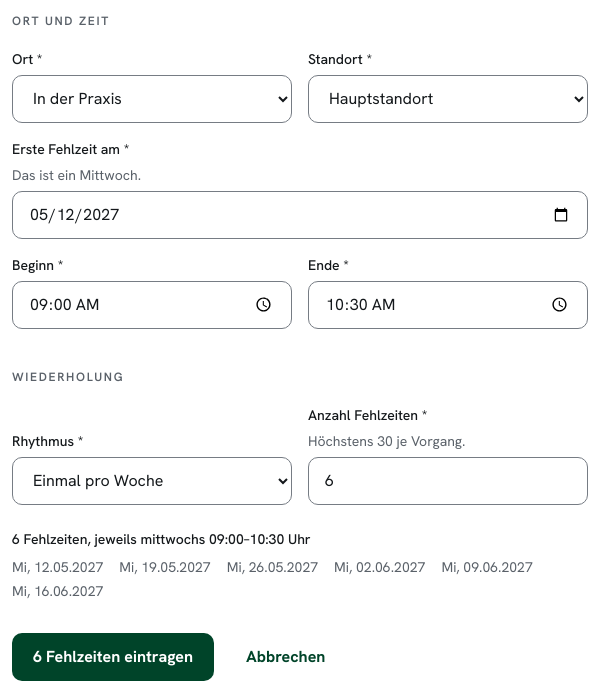
it: NewEventPage als Dauerfehlzeit › rechnet den gewaehlten Rhythmus
(page scrolled)
Select "Alle zwei Wochen" in the dropdown labelled "Rhythmus *". click: (152, 481)
box: [12,457,292,505]
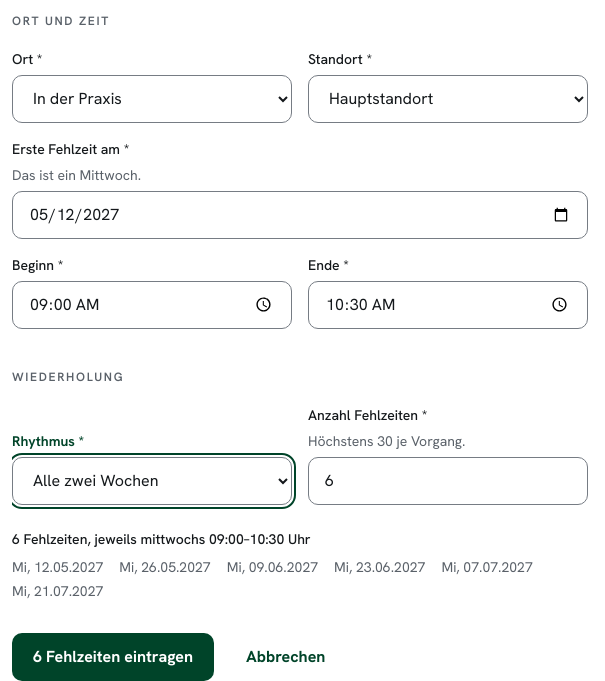
Expected: the list item "Mi, 26.05.2027" is shown, [119,557,211,577]
Result: the list item "Mi, 19.05.2027" is gone
